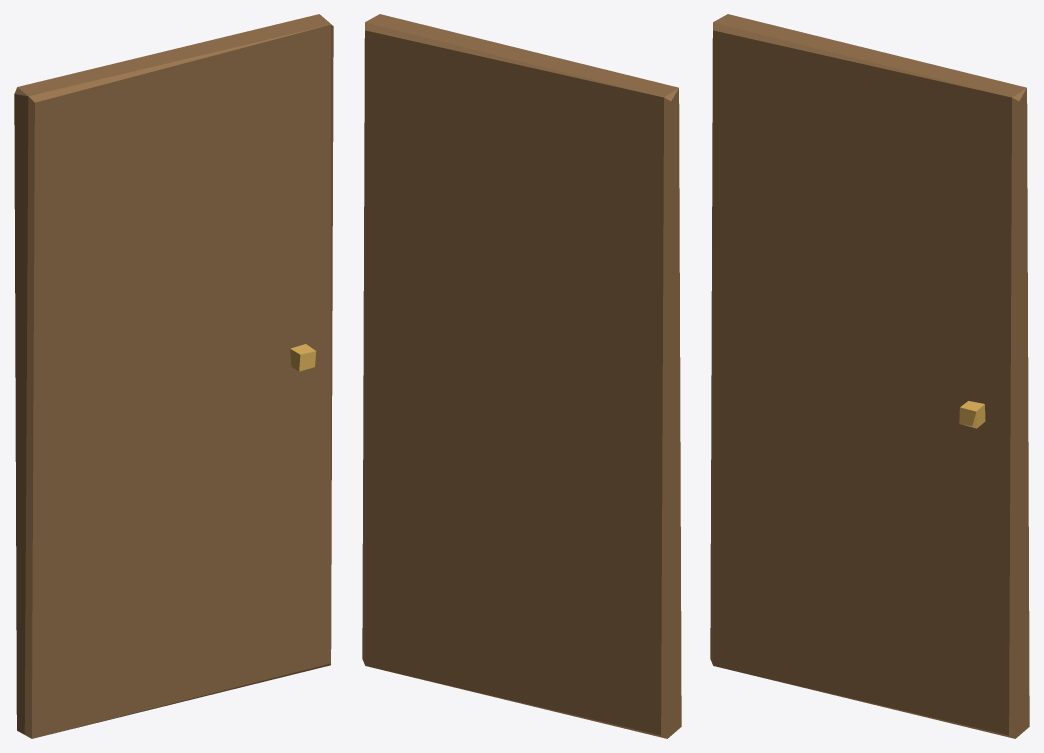
The model's file is harbor-door.lod1.glb.
3 views of the same model, side by side, from view 1: azimuth 30°, elevation 25°; view 2: azimuth 150°, elevation 25°; view 3: azimuth 330°, elevation 25° (orthographic).
Visible parts, largest first — view 1: harbor-door__door; view 2: harbor-door__door; view 3: harbor-door__door.
Part boxes in pixels (box(x1,y1,x2,y2)): harbor-door__door: box(14, 14, 333, 738); harbor-door__door: box(362, 14, 681, 738); harbor-door__door: box(710, 14, 1029, 738).
Bounding box in the file's own units: 1.2 × 2.39 × 0.19.
